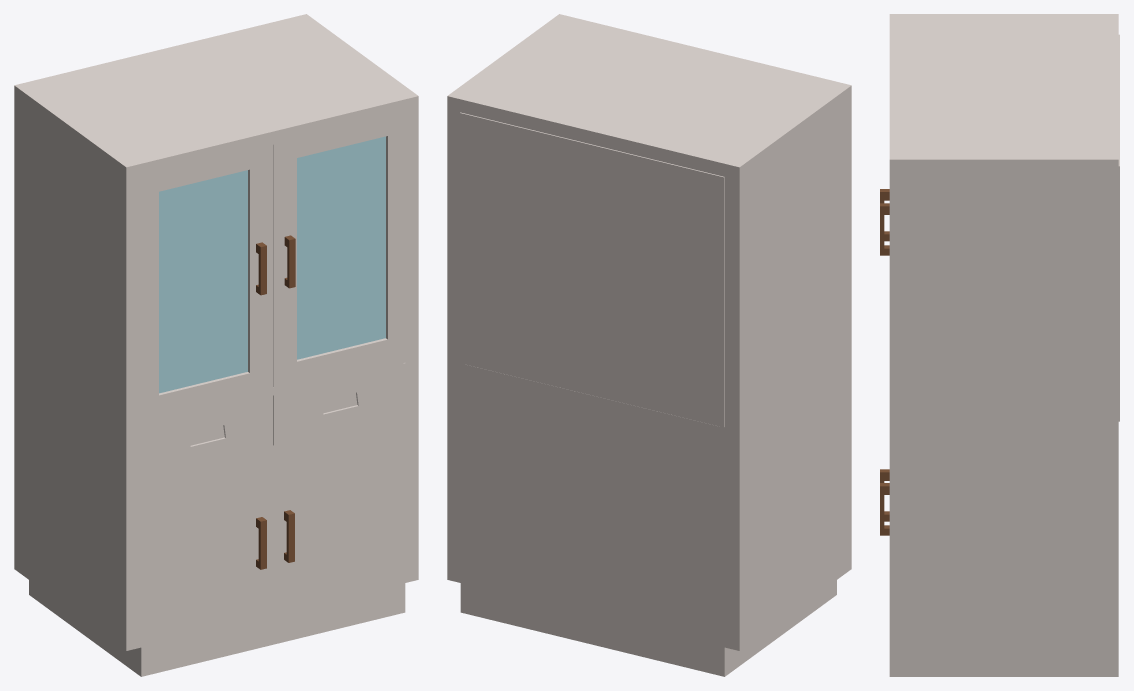
The model's file is Vitrina.fbx.
3 renders of one model, left to right at view 1: azimuth 30°, elevation 25°; view 2: azimuth 150°, elevation 25°; view 3: azimuth 270°, elevation 25°, orthographic. The views are drawn at different scales.
Visible parts, largest first — view 1: Armario, Puerta Sup Der, Puerta Sup Izq, Puerta Inf Der, Puerta Inf Izq, Cajon Izq, Cajon Der; view 2: Armario; view 3: Armario, Puerta Inf Der, Puerta Sup Der.
Boxes of the visible parts, x1,y1,x2,y2 form: Armario: (14,14,418,676); Puerta Sup Der: (273,112,405,386); Puerta Sup Izq: (141,145,273,419); Puerta Inf Der: (273,418,405,615); Puerta Inf Izq: (141,450,273,647); Cajon Izq: (141,395,273,478); Cajon Der: (273,363,405,446); Armario: (447,14,851,676); Armario: (889,14,1119,676); Puerta Inf Der: (880,483,889,535); Puerta Sup Der: (880,203,889,255).
Size of the model in its own units: 888 by 1490 by 618.
